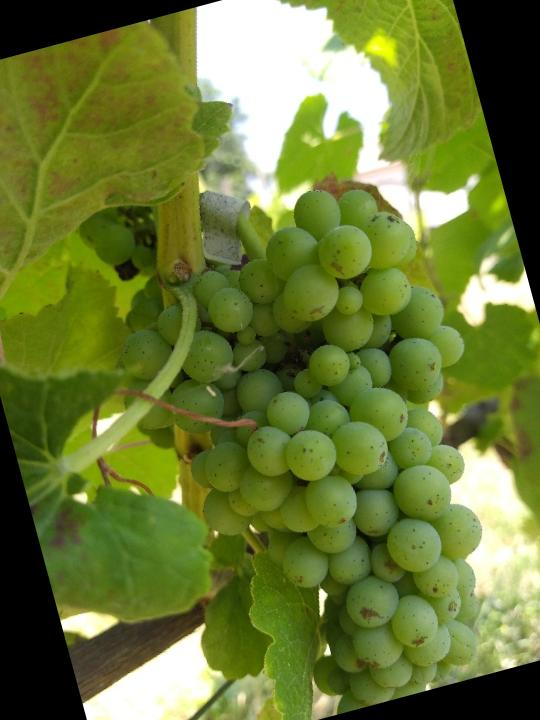grape: (82, 162, 540, 720)
